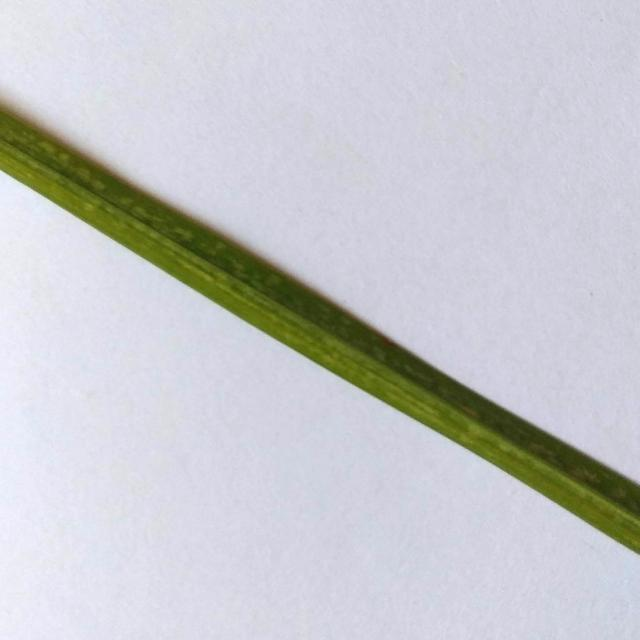Rice_Healthy: (0, 105, 640, 553)
